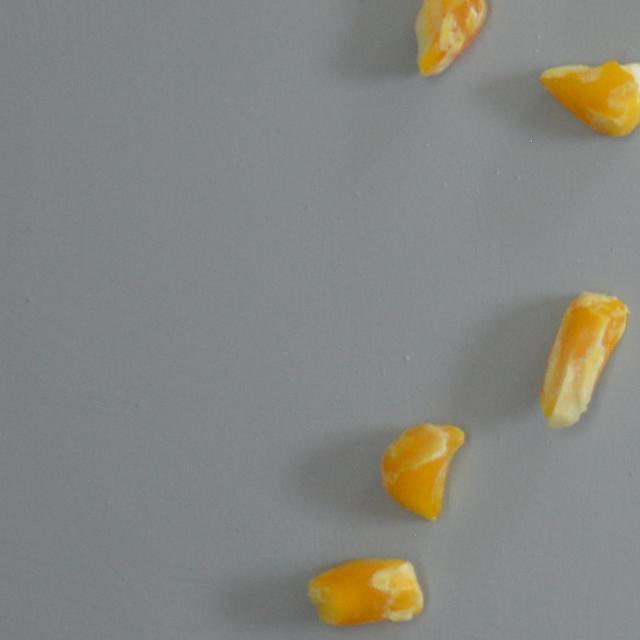pelicula: (508, 320, 640, 400), (553, 32, 639, 151), (322, 528, 410, 640), (368, 420, 470, 513), (385, 0, 518, 56)
